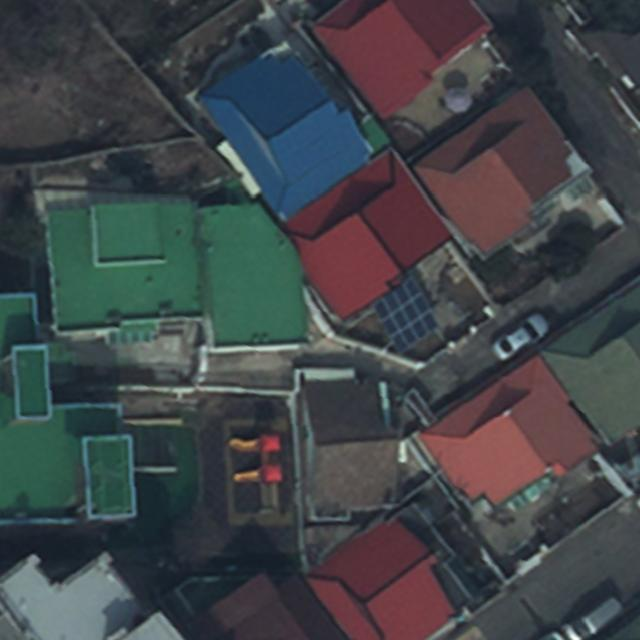solarpanel: (370, 276, 440, 354)
